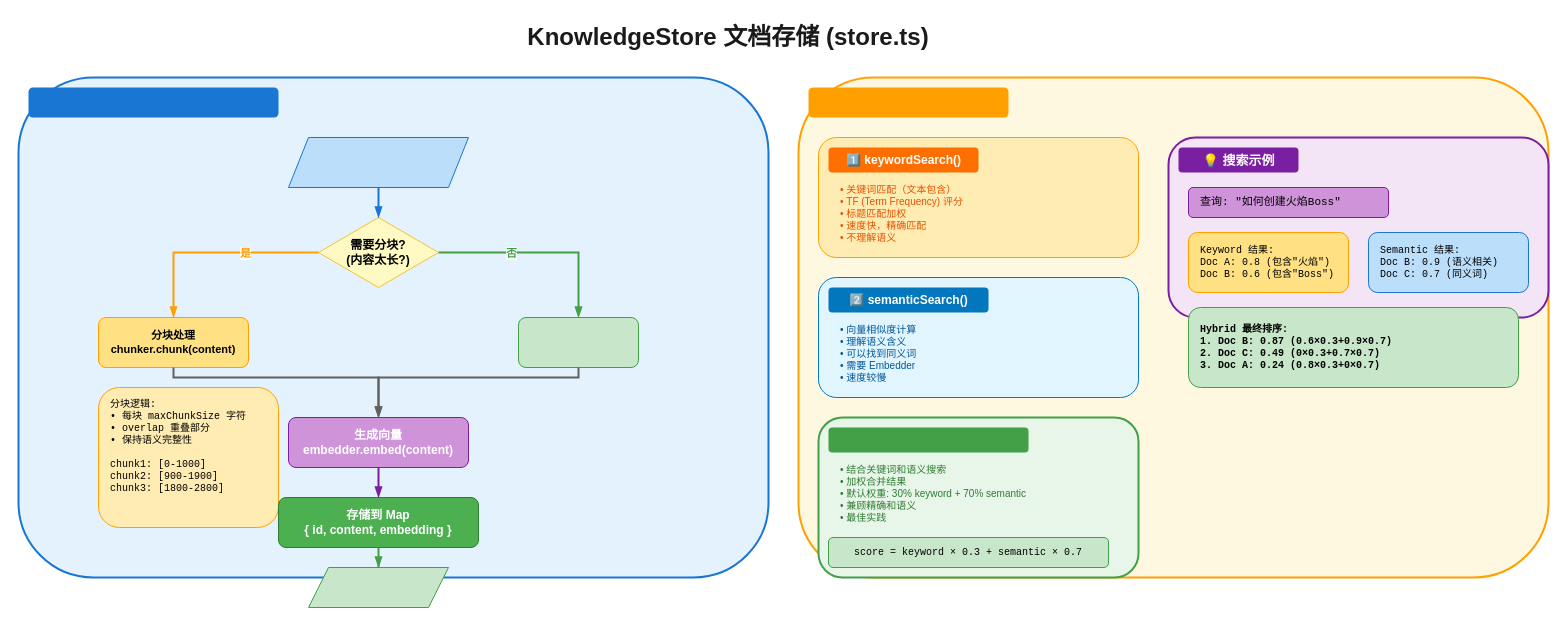
The diagram is 1566 pixels wide and 625 high, and some of its shapes have lost their labels. The shapes that lost their labels are listed below. From the top down, each one's centre as x and y in pixels, then its label:
At point 153,102: "addDocument() 添加文档流程".
At point 908,102: "search() 三种搜索方法".
At point 378,162: "输入 DocumentInput { category, title, content }".
At point 578,342: "直接处理 单个文档".
At point 928,439: "3️⃣ hybridSearch() ⭐推荐".
At point 378,587: "返回文档 ID".
